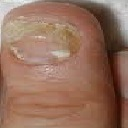Nail Fungal Infection: (4, 16, 82, 57)
